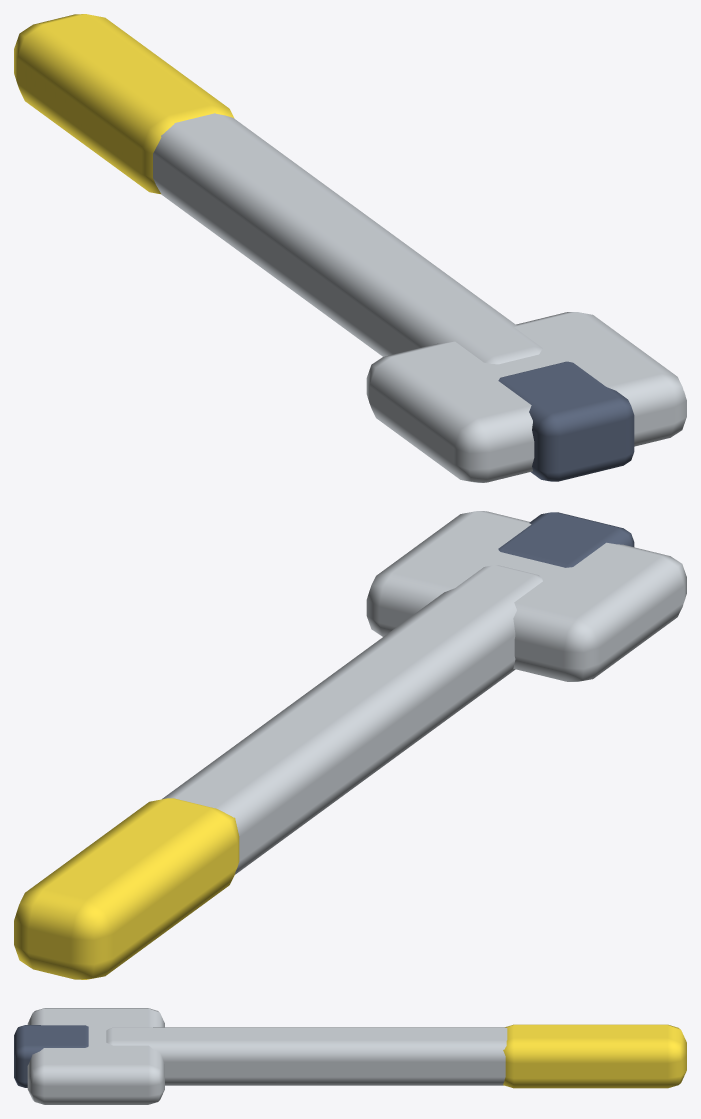
The model's file is hero-shooter-harbour-payload-item-tool-wrench-9902428c__27668.glb.
3 views of the same model, one above another, from view 1: azimuth 30°, elevation 25°; view 2: azimuth 150°, elevation 25°; view 3: azimuth 270°, elevation 25° (orthographic). The views are drawn at different scales.
Parts seen in each view (by area): view 1: item-tool-wrench; view 2: item-tool-wrench; view 3: item-tool-wrench.
Boxes of the visible parts, left/top/right/bottom form: item-tool-wrench: left=14, top=14, right=686, bottom=482; item-tool-wrench: left=14, top=511, right=686, bottom=979; item-tool-wrench: left=14, top=1008, right=686, bottom=1104.
Bounding box in the file's own units: 0.12 × 0.04 × 0.49.
